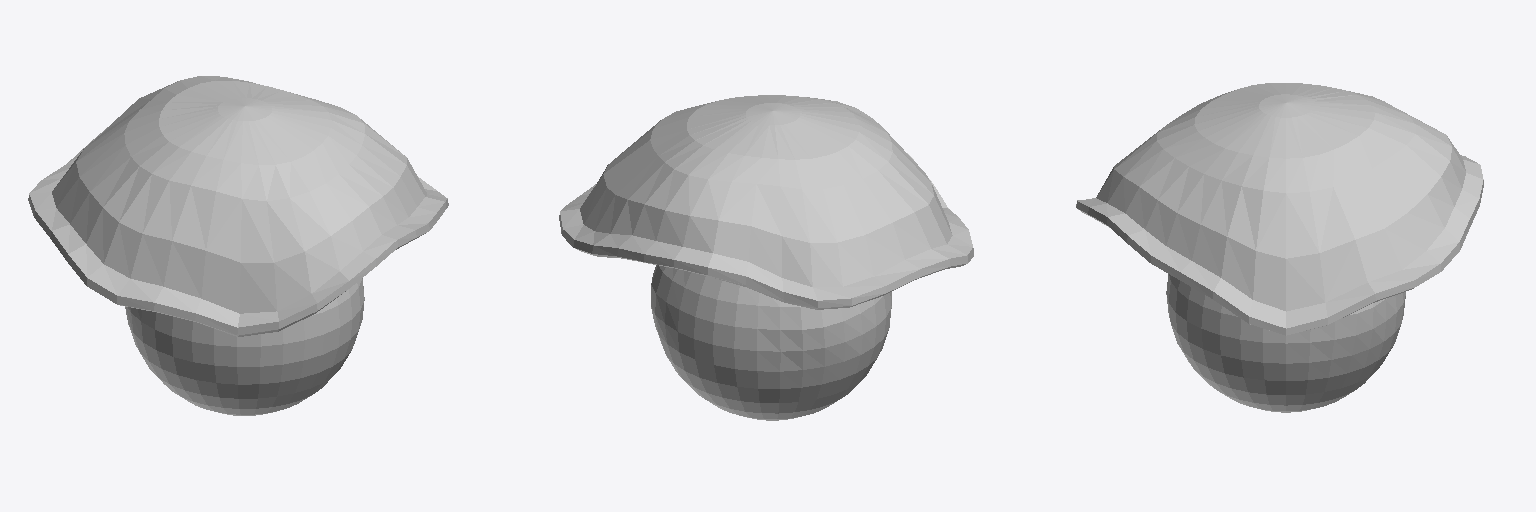
File: Mushroom Basic Hat.obj
3 views of the same model, side by side, from view 1: azimuth 30°, elevation 25°; view 2: azimuth 150°, elevation 25°; view 3: azimuth 270°, elevation 25° (orthographic).
Parts seen in each view (by area): view 1: Sphere; view 2: Sphere; view 3: Sphere.
Part boxes in pixels (bbox=[...]): Sphere: bbox=[28, 76, 448, 415]; Sphere: bbox=[559, 95, 973, 420]; Sphere: bbox=[1076, 83, 1483, 412].
Bounding box in the file's own units: 1.79 × 1.37 × 1.7.